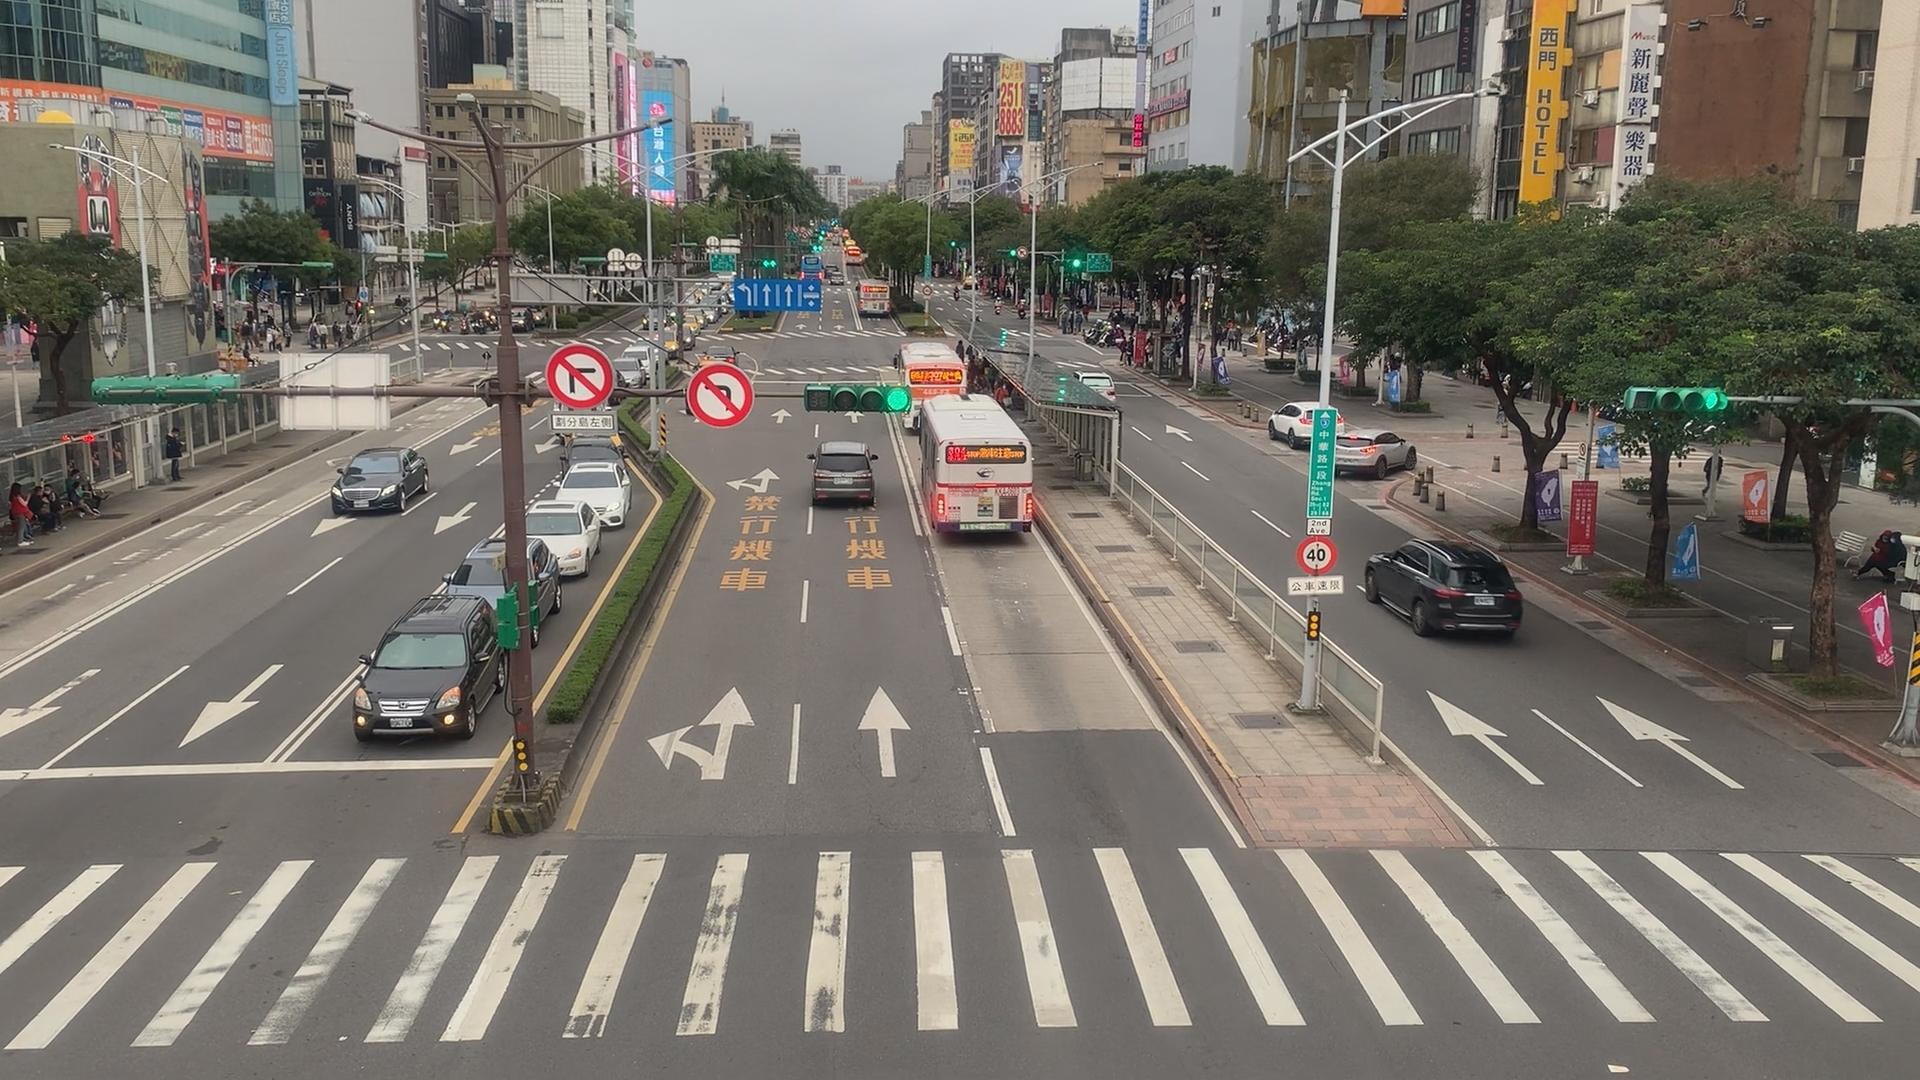Bus: (920, 401, 1030, 535), (895, 335, 975, 429), (856, 274, 890, 323)
Motorcycle: (949, 280, 969, 303), (1013, 297, 1030, 319), (994, 291, 1006, 315)
Private Passenger Car: (347, 592, 514, 757), (1367, 545, 1524, 633), (436, 539, 558, 642), (324, 448, 429, 520), (516, 505, 597, 583), (802, 439, 889, 509), (1327, 429, 1440, 481), (559, 455, 633, 527), (1262, 396, 1346, 446), (1071, 363, 1134, 419), (560, 429, 620, 483), (601, 357, 650, 397)
